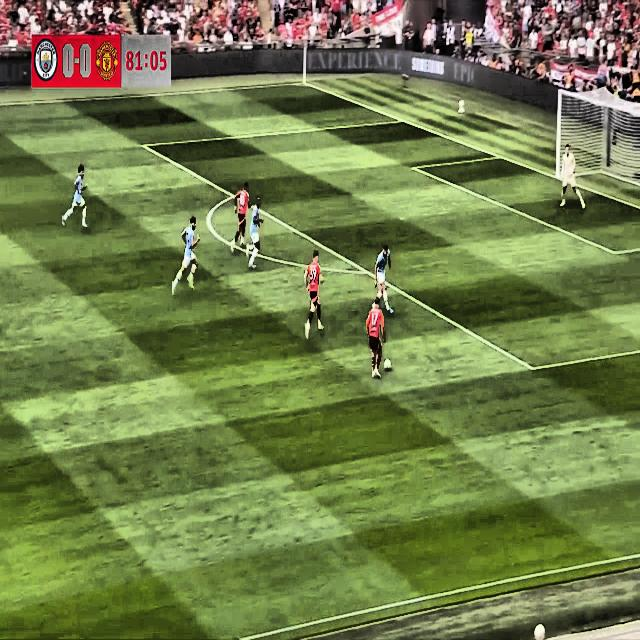ball: (382, 352, 395, 380)
goal_keeper: (557, 141, 588, 212)
players: (56, 156, 95, 242), (168, 208, 202, 300), (300, 247, 329, 350), (227, 169, 256, 256), (374, 238, 399, 329), (363, 288, 385, 382), (245, 195, 266, 278)
